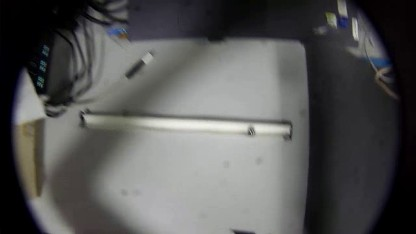gangzhu: (247, 127, 253, 137)
